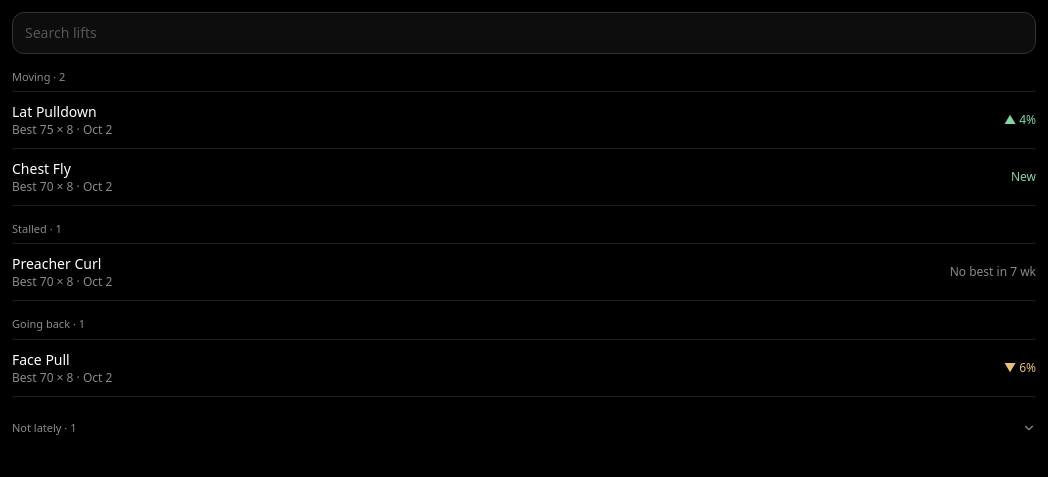
Test: Stats, a lift's detail › leaves the all-time line out when the span holds the best
Click the button "Lat Pulldown Best 75 × 8 · Oct 2 ▲ 4%" at (54, 112), box [12,92,1036,149]
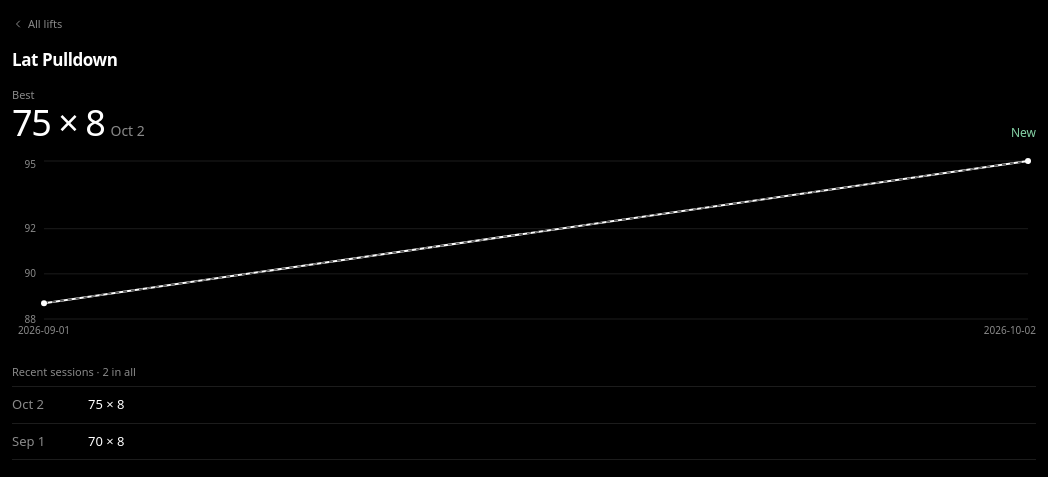
expect the text "75 × 8" is shown: met, box [12,98,104,147]
